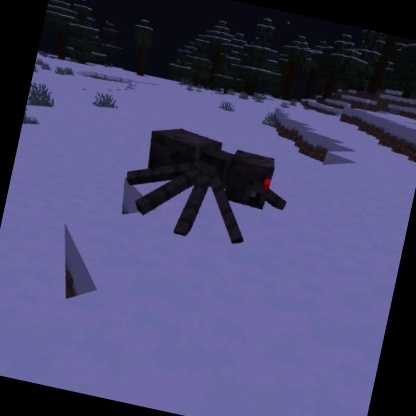spider: (112, 114, 302, 261)
